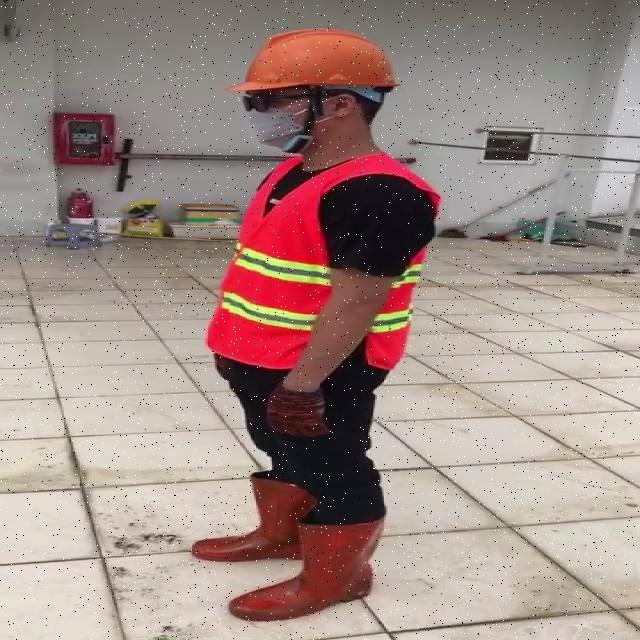Hard_hat: (218, 24, 406, 109)
Vest: (215, 152, 343, 374)
